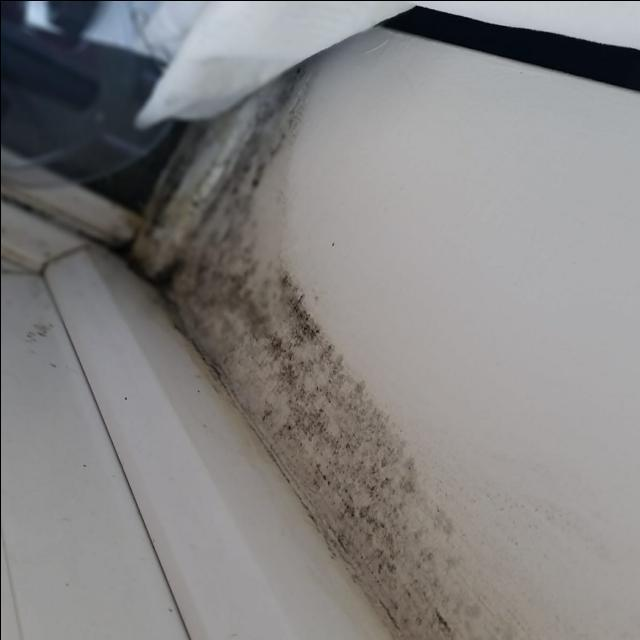leak: (173, 44, 523, 640), (221, 278, 472, 640), (124, 147, 176, 315)
